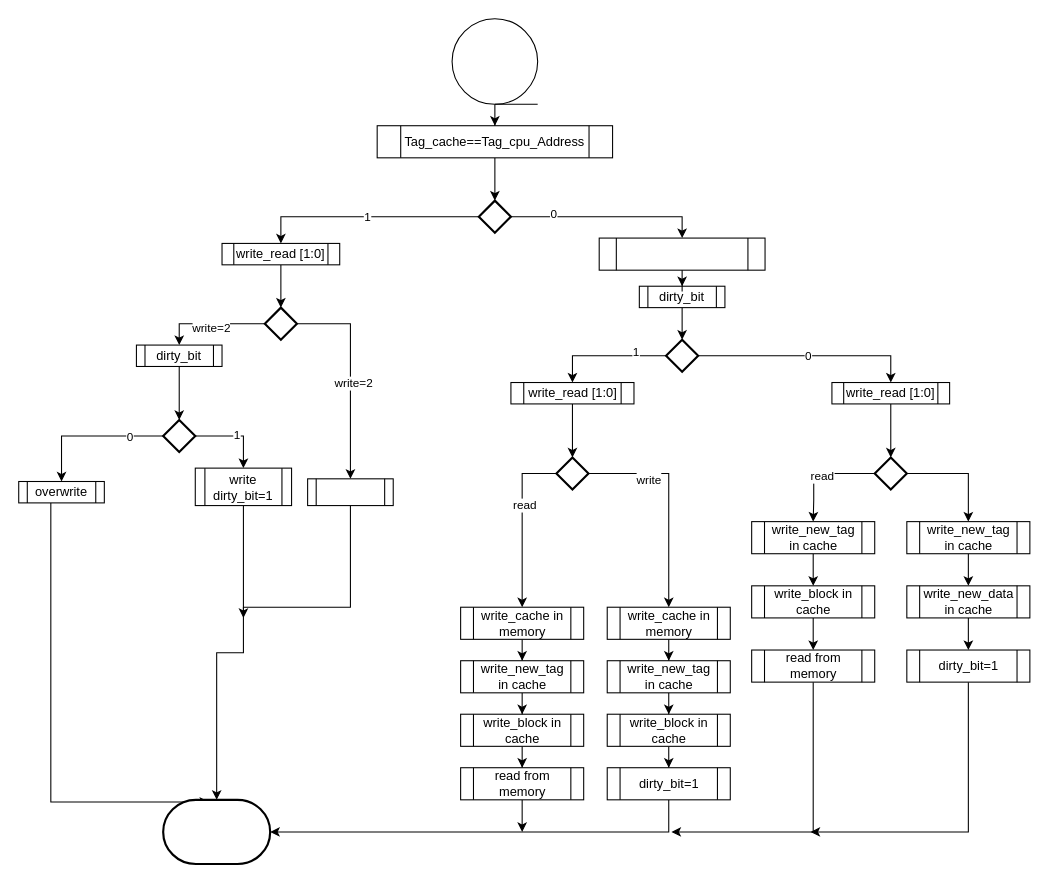
The diagram is 1049 pixels wide and 884 high, and some of its shapes have lost their labels. The centre of each missing label's shape, as x and y in pixels:
End Transaction: the point at 216,831
load address_to_mem from cache [1:0]: the point at 681,253
Read from Cache: the point at 350,492
Request Transaction: the point at 494,61
